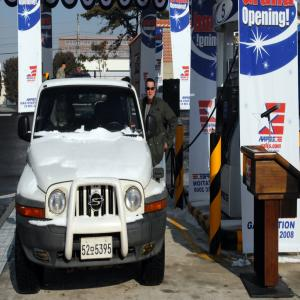Vehicle-registration-plate: (82, 238, 113, 260)
